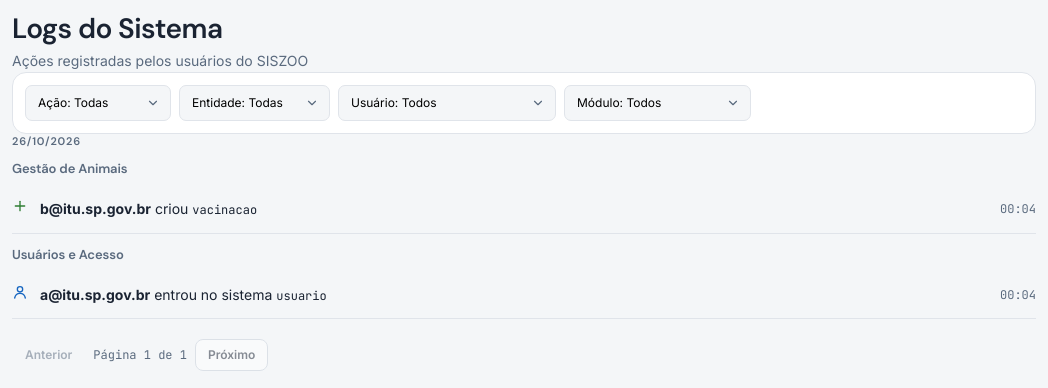
Scenario: Logs › filtrar por ação mostra o aviso "Filtro aplicado..." e não mostra sem filtro
Expected: the text "a@itu.sp.gov.br" is shown, 40,286 -> 150,303
Expected: the text "Filtro aplicado" is not shown
Select "entrou no sistema" in the dropdown named "Filtrar por ação". click: x=98, y=103
box: 25,85 -> 171,121
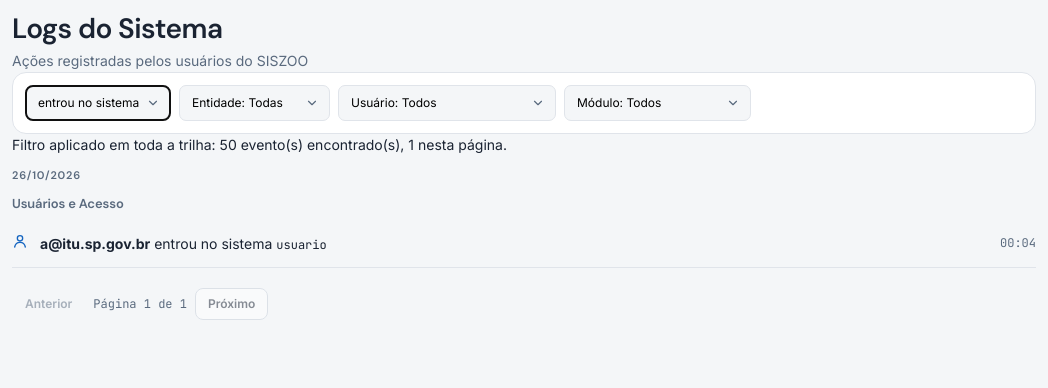
Expected: the text "Filtro aplicado em toda a trilha: 50 evento(s) encontrado(s), 1 nesta página." is shown, 12,136 -> 507,153
Expected: the text "b@itu.sp.gov.br" is gone
